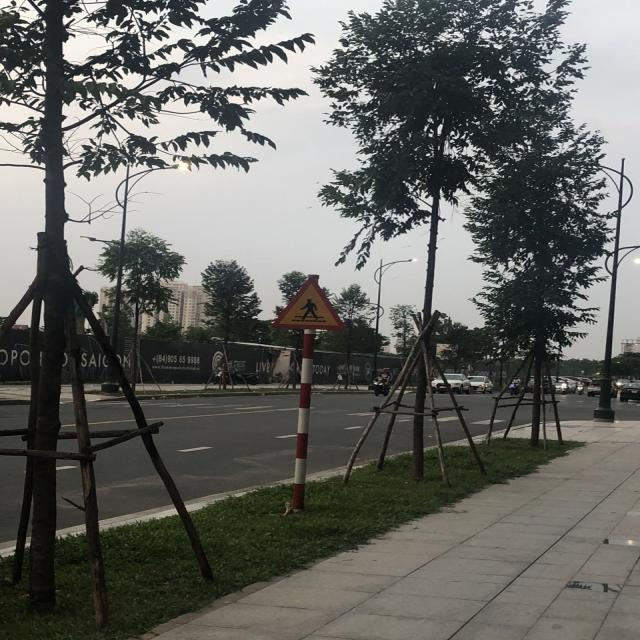Bien bao duong nguoi di bo cat ngang: (268, 270, 350, 340)
